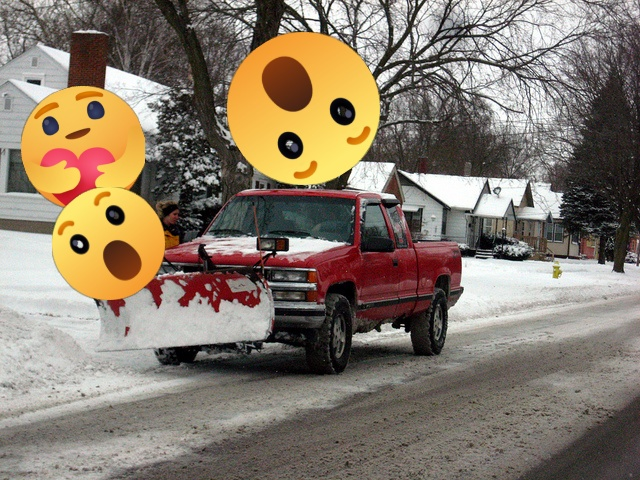care: (21, 86, 145, 210)
wow: (227, 32, 380, 185), (52, 187, 165, 300)
